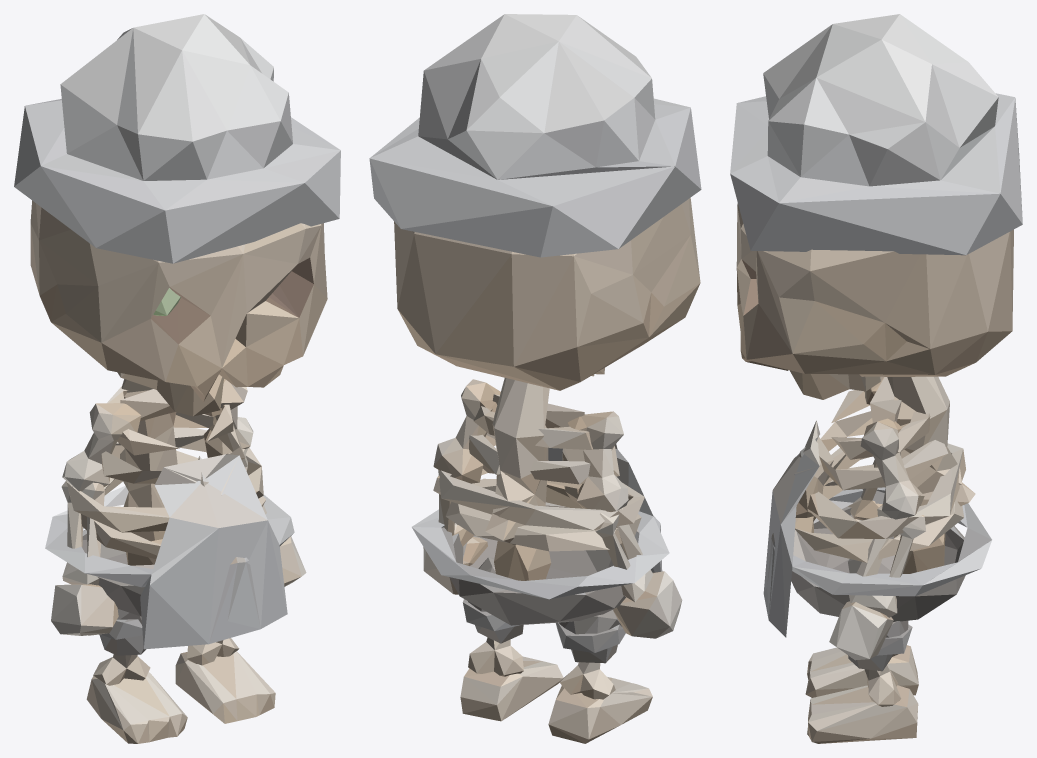
File: sk_Chef.obj
3 views of the same model, side by side, from view 1: azimuth 30°, elevation 25°; view 2: azimuth 150°, elevation 25°; view 3: azimuth 270°, elevation 25° (orthographic). The views are drawn at different scales.
Parts seen in each view (by area): view 1: sk_Chef; view 2: sk_Chef; view 3: sk_Chef.
Boxes of the visible parts, left/top/right/bottom form: sk_Chef: left=14, top=14, right=340, bottom=743; sk_Chef: left=369, top=14, right=701, bottom=743; sk_Chef: left=730, top=14, right=1022, bottom=743.
Bounding box in the file's own units: 5.03 × 13 × 5.01.
